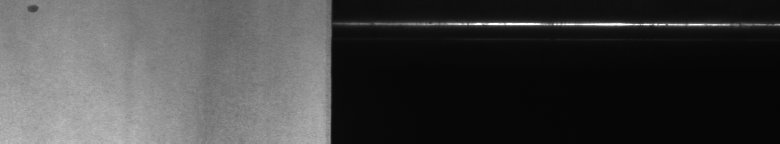fi: (24, 4, 43, 20)
